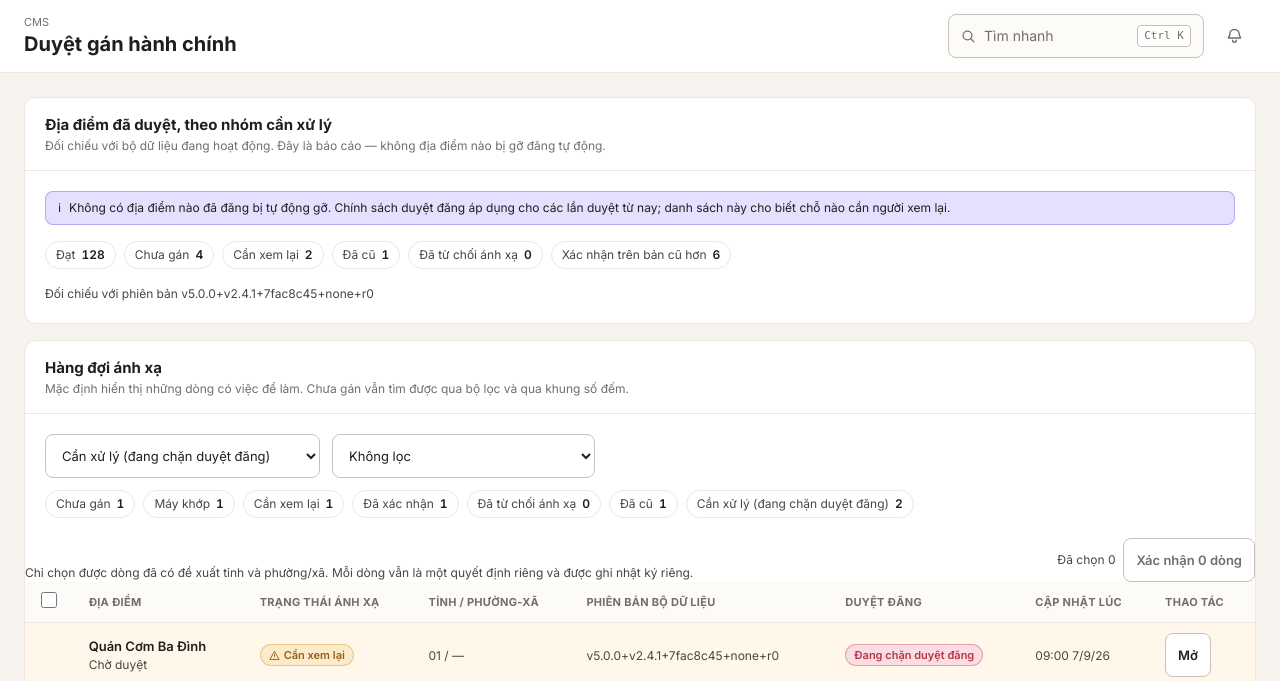
it: the queue › keeps UNMAPPED discoverable rather than buried
Expected: the text "Quán Cơm Ba Đình" is shown, [89,638,206,654]
Expected: the text "Chưa gán" next to "128" is shown, [135,247,189,262]
// …and one filter away.
Select "Chưa gán" in the dropdown named "Trạng thái ánh xạ" at point(182, 456), box [45,434,320,478]
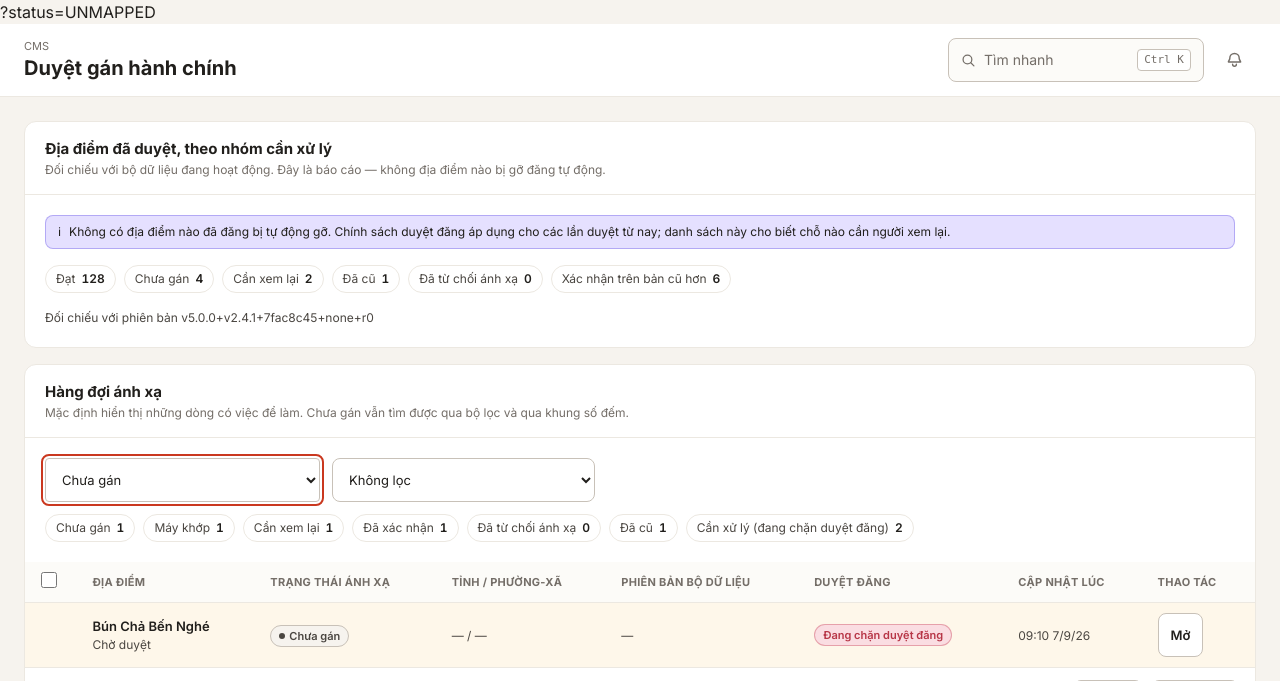
Now the text "Bún Chả Bến Nghé" is shown, box [92,618,210,634]
Now the text with test id "search" shows "status=UNMAPPED", box [0,2,156,22]
